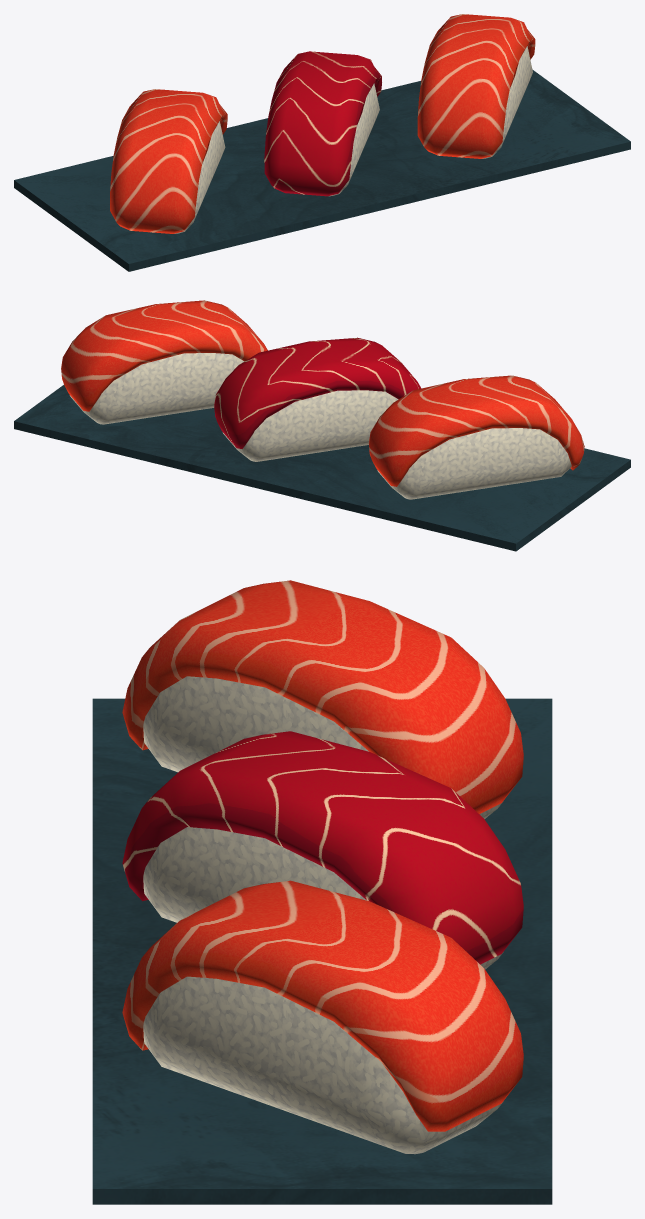
File: sushi.fbx
3 renders of one model, top to bottom at view 1: azimuth 30°, elevation 25°; view 2: azimuth 150°, elevation 25°; view 3: azimuth 270°, elevation 25°, orthographic. The views are drawn at different scales.
Parts seen in each view (by area): view 1: Sushi; view 2: Sushi; view 3: Sushi.
Part boxes in pixels (box(x1,y1,x2,y2)): Sushi: box(14, 14, 630, 271); Sushi: box(14, 300, 630, 551); Sushi: box(92, 580, 552, 1204).
Size of the model in its own units: 313 by 57.25 by 124.
